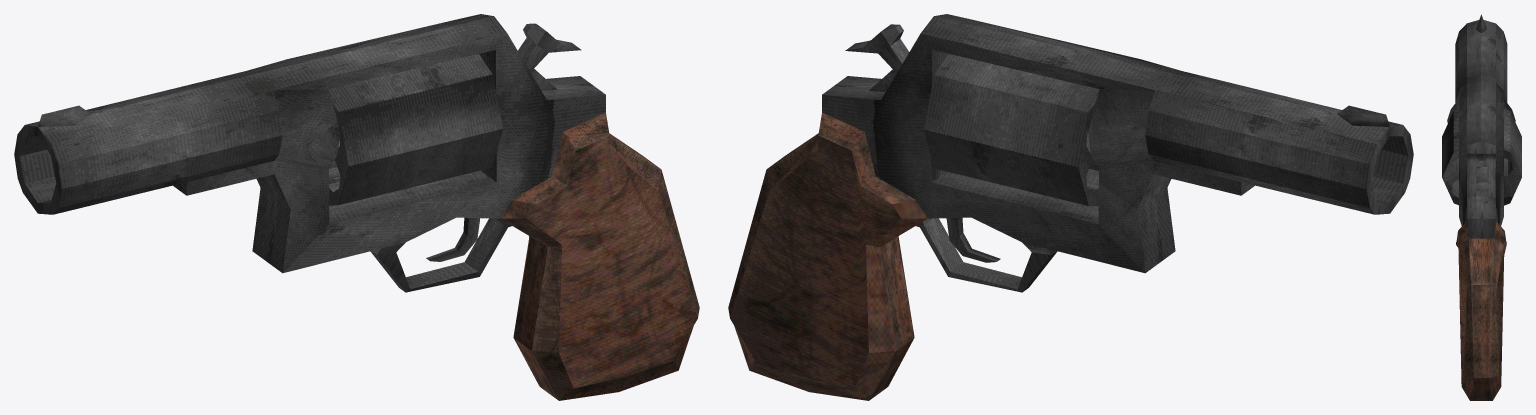
Rendered from revolver.fbx.
3 renders of one model, left to right at view 1: azimuth 30°, elevation 25°; view 2: azimuth 150°, elevation 25°; view 3: azimuth 270°, elevation 25°, orthographic. The views are drawn at different scales.
Visible parts, largest first — view 1: Frane, Cylinder, Hammer, Trigger; view 2: Frane, Cylinder, Hammer, Trigger; view 3: Frane, Cylinder, Hammer.
Part boxes in pixels (box(x1,y1,x2,y2)): Frane: box(14, 14, 699, 400); Cylinder: box(328, 54, 503, 205); Hammer: box(518, 23, 581, 90); Trigger: box(426, 217, 480, 261); Frane: box(728, 14, 1413, 400); Cylinder: box(923, 54, 1099, 206); Hammer: box(845, 24, 909, 92); Trigger: box(946, 218, 1000, 262); Frane: box(1447, 14, 1515, 400); Cylinder: box(1442, 108, 1521, 205); Hammer: box(1476, 160, 1487, 203).
Size of the model in its own units: 816 by 485 by 157.
5 materials, 5 textured.
